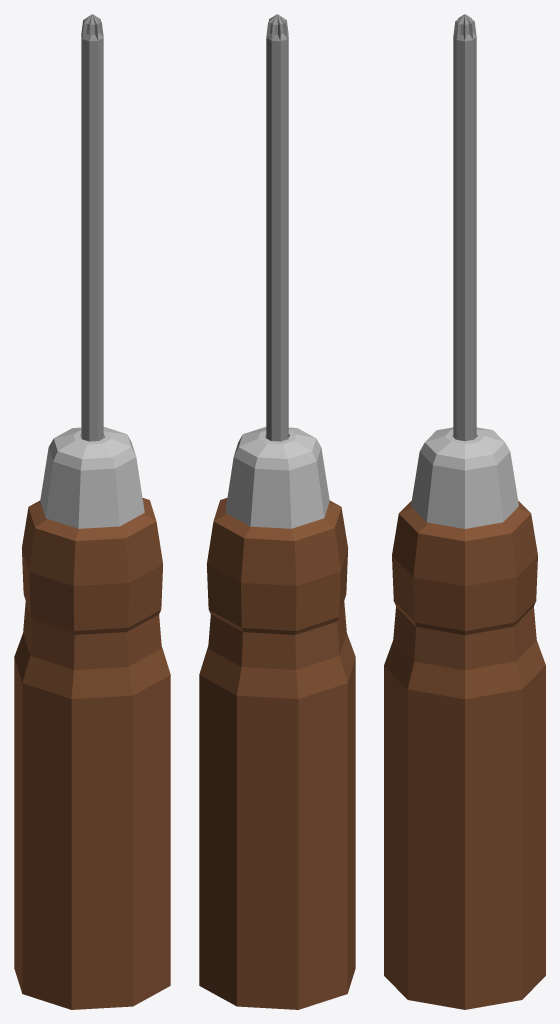
Rendered from screwdriver01.gltf.
3 renders of one model, left to right at view 1: azimuth 30°, elevation 25°; view 2: azimuth 150°, elevation 25°; view 3: azimuth 270°, elevation 25°, orthographic.
Parts seen in each view (by area): view 1: Cylinder; view 2: Cylinder; view 3: Cylinder.
Part boxes in pixels (box(x1,y1,x2,y2)): Cylinder: box(14, 14, 170, 1009); Cylinder: box(199, 14, 355, 1009); Cylinder: box(384, 14, 545, 1009).
Bounding box in the file's own units: 0.03 × 0.1969 × 0.03.
1 material, 1 textured.
